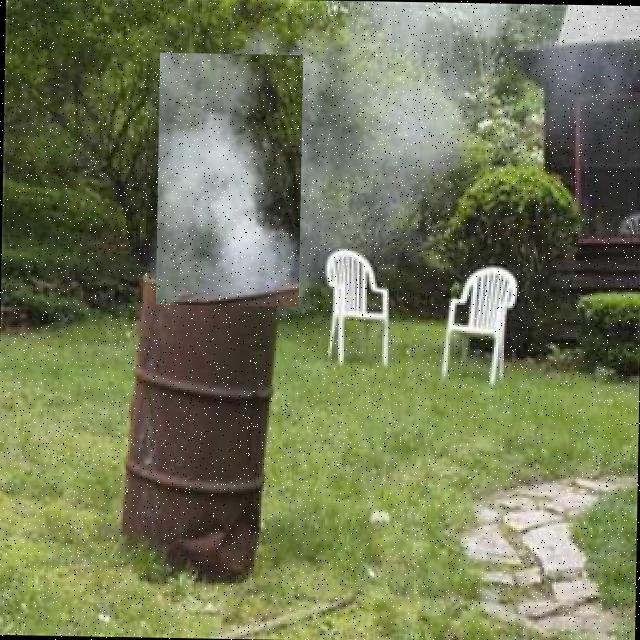fire: (156, 52, 302, 306)
